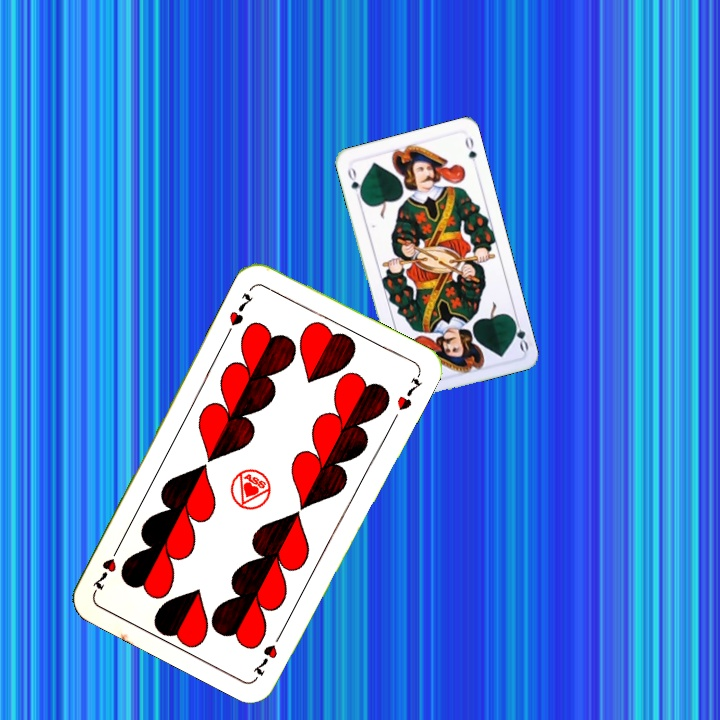GO: (508, 313, 531, 354), (343, 162, 365, 202)
H7: (248, 626, 286, 680), (225, 289, 256, 328)
